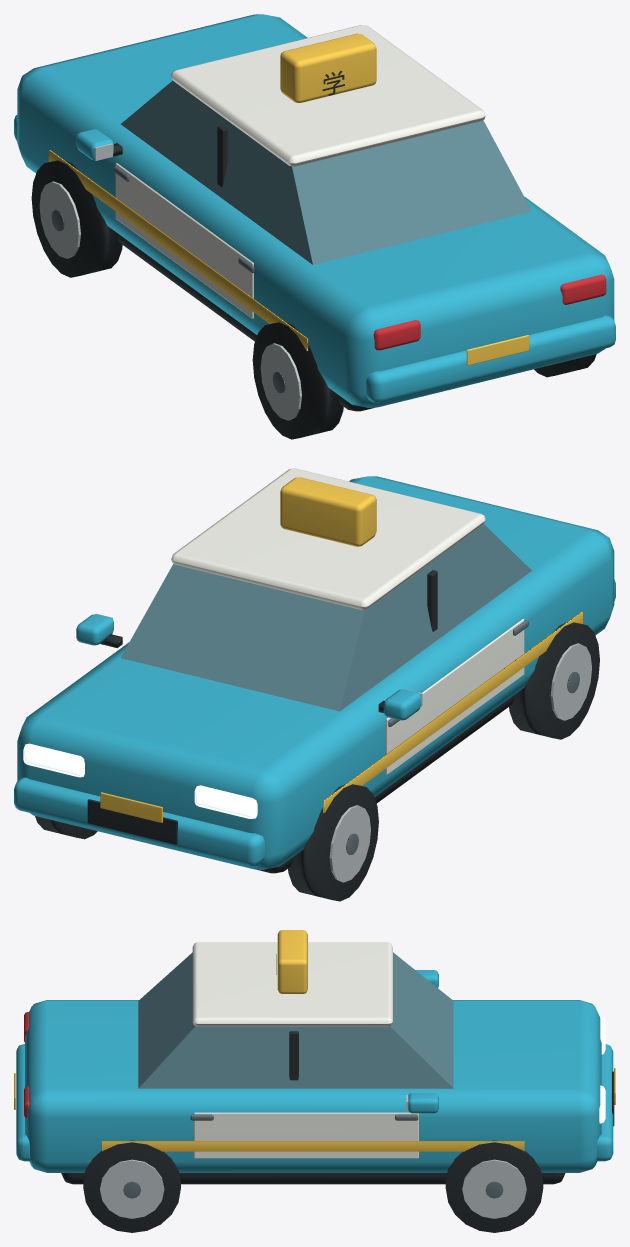
Rendered from coach-car.glb.
The picture shows the model from 3 angles, top to bottom: view 1: azimuth 30°, elevation 25°; view 2: azimuth 150°, elevation 25°; view 3: azimuth 270°, elevation 25°; orthographic projection. The views are drawn at different scales.
Parts seen in each view (by area): view 1: Coach_Coach_blue_enamel, Coach_Windows_petrol, Coach_Marking_warm_white, Coach_Rubber_and_seals, Coach_Safety_amber, Coach_Wheel_brushed_alloy, Coach_Tail_lamps_ruby, Coach_Street_furniture_charcoal; view 2: Coach_Coach_blue_enamel, Coach_Windows_petrol, Coach_Marking_warm_white, Coach_Rubber_and_seals, Coach_Safety_amber, Coach_Wheel_brushed_alloy, Coach_Headlamp_ivory, Coach_Street_furniture_charcoal; view 3: Coach_Coach_blue_enamel, Coach_Windows_petrol, Coach_Marking_warm_white, Coach_Rubber_and_seals, Coach_Safety_amber, Coach_Wheel_brushed_alloy, Coach_Street_furniture_charcoal, Coach_Headlamp_ivory.
Boxes of the visible parts, x1,y1,x2,y2 form: Coach_Coach_blue_enamel: (14, 14, 615, 407); Coach_Windows_petrol: (121, 80, 531, 264); Coach_Marking_warm_white: (115, 25, 485, 318); Coach_Rubber_and_seals: (31, 70, 596, 439); Coach_Safety_amber: (48, 33, 529, 365); Coach_Wheel_brushed_alloy: (39, 143, 301, 420); Coach_Tail_lamps_ruby: (373, 274, 606, 350); Coach_Street_furniture_charcoal: (51, 166, 285, 393); Coach_Coach_blue_enamel: (14, 476, 615, 869); Coach_Windows_petrol: (121, 524, 531, 711); Coach_Marking_warm_white: (171, 468, 524, 774); Coach_Rubber_and_seals: (35, 570, 599, 901); Coach_Safety_amber: (100, 477, 582, 822); Coach_Wheel_brushed_alloy: (95, 613, 591, 882); Coach_Headlamp_ivory: (23, 743, 257, 818); Coach_Street_furniture_charcoal: (346, 620, 579, 854); Coach_Coach_blue_enamel: (16, 970, 613, 1172); Coach_Windows_petrol: (138, 952, 453, 1088); Coach_Marking_warm_white: (192, 942, 418, 1158); Coach_Rubber_and_seals: (61, 954, 614, 1232); Coach_Safety_amber: (14, 930, 615, 1151); Coach_Wheel_brushed_alloy: (100, 1095, 526, 1218); Coach_Street_furniture_charcoal: (123, 1114, 503, 1198); Coach_Headlamp_ivory: (599, 1017, 605, 1123).
Size of the model in its own units: 2.28 by 1.85 by 4.39.
